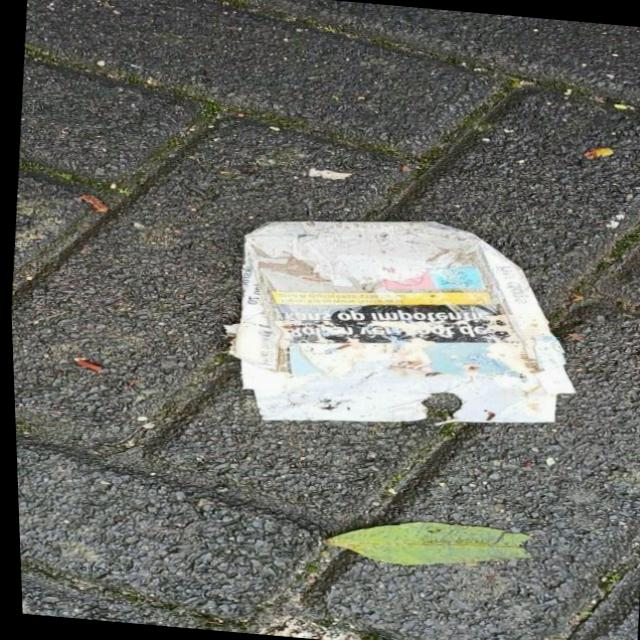Paper: (203, 200, 593, 450)
